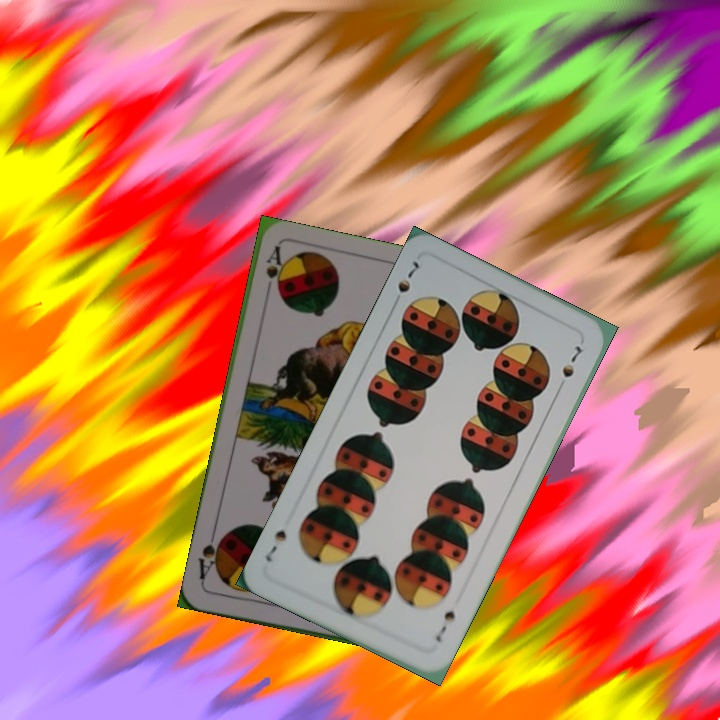S7: (388, 257, 424, 310), (431, 606, 458, 645)
SA: (261, 243, 285, 302)
